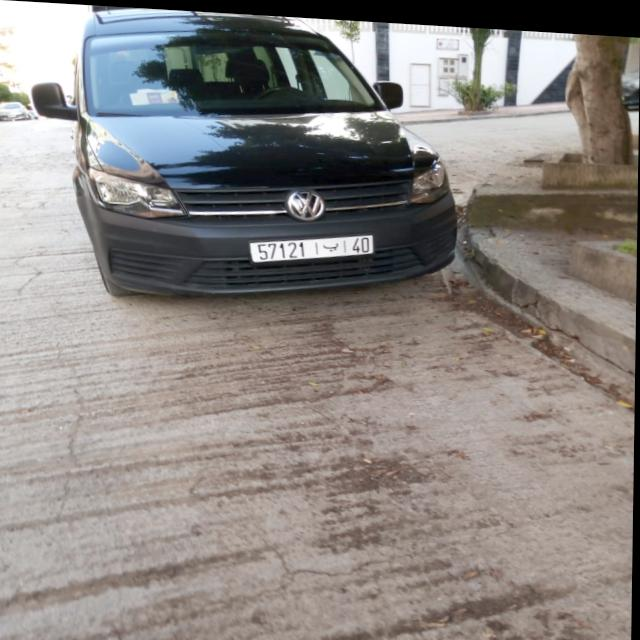License-Plate: (252, 231, 374, 260)
